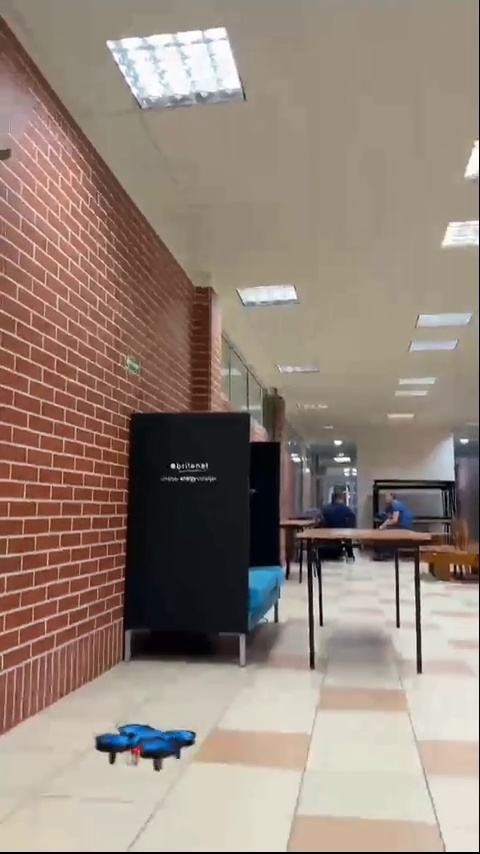drone: (98, 722, 201, 765)
no vest: (375, 491, 413, 536), (320, 487, 351, 537)
